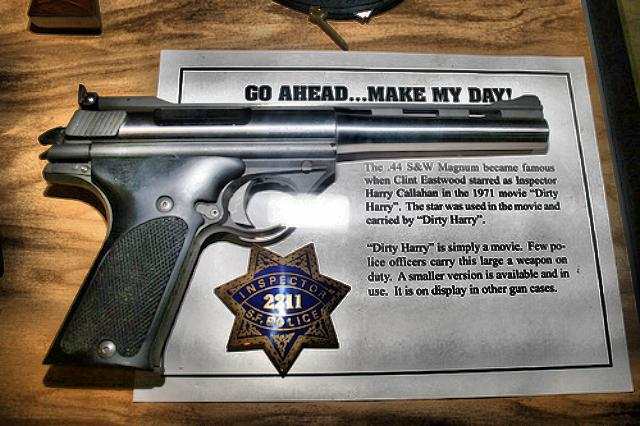pistol: (36, 82, 550, 386)
